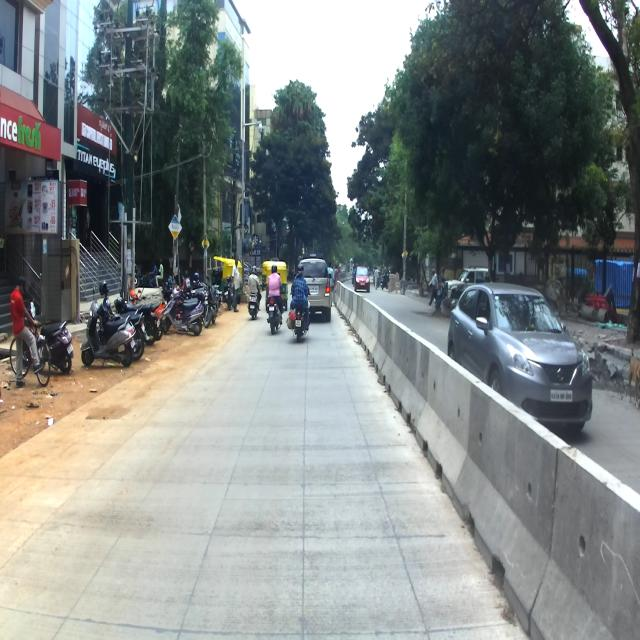motorcycle ahead at: (75, 291, 140, 381)
person ahead at: (9, 269, 44, 394)
